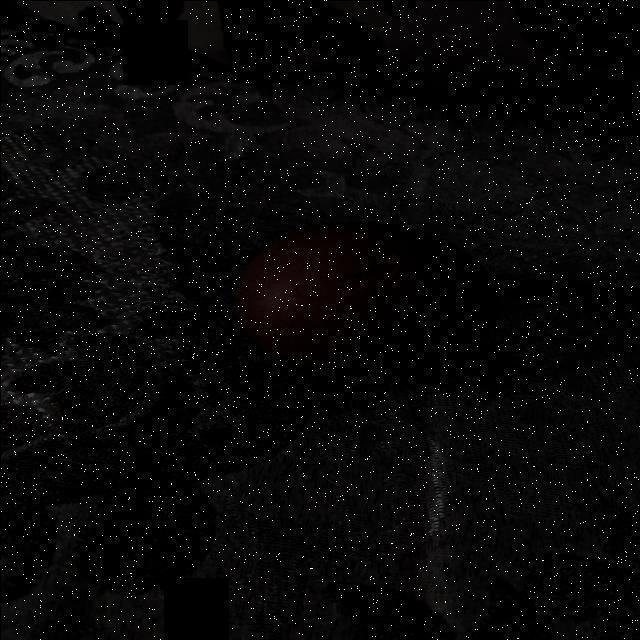egg: (232, 218, 498, 380)
